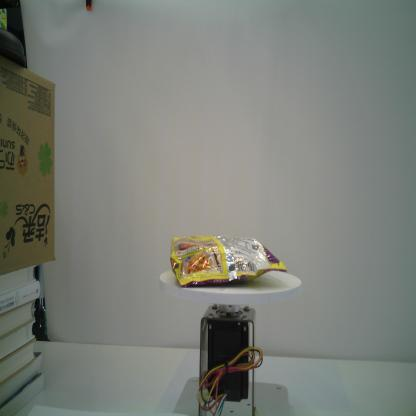Instant Noodles: (171, 235, 287, 288)
